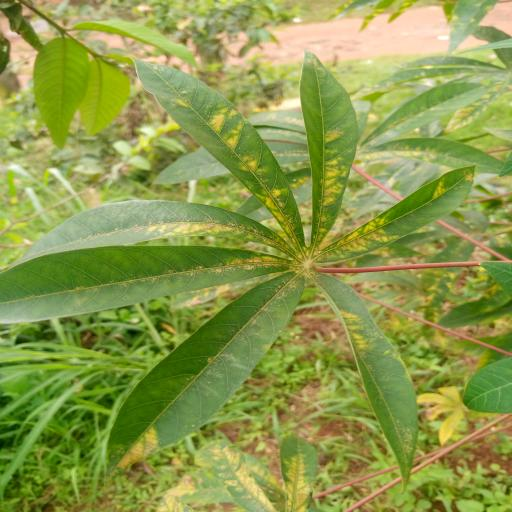Cassava_Mosaic: (11, 58, 480, 477)
